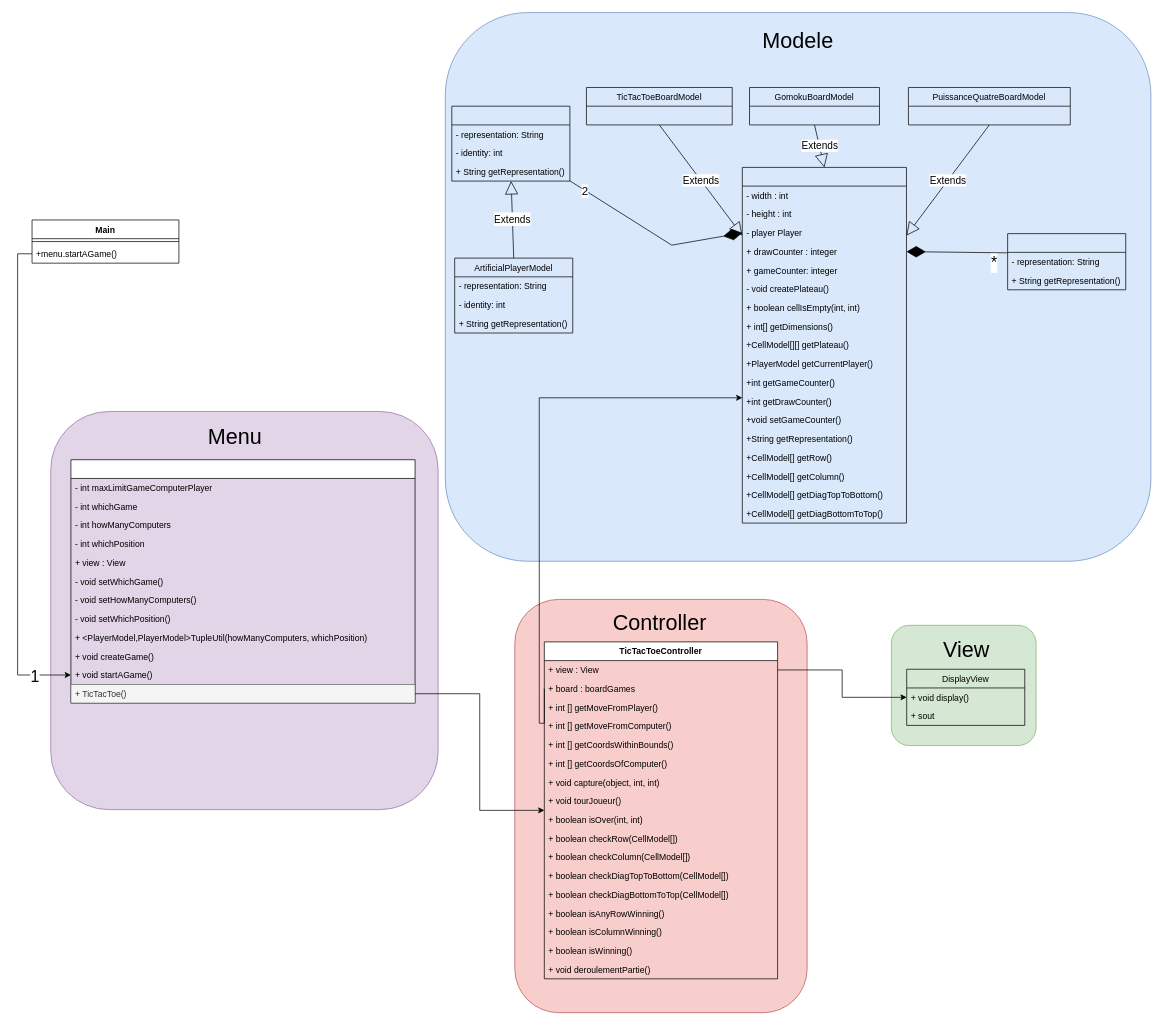
This 1164x1025 diagram has some shape labels left out. The shapes that lost their labels are listed below. From the top down, each one's box as (x1, y1, x2, y2) in pixels, then its label:
(451, 105, 570, 181): PlayerModel
(1007, 233, 1126, 290): CellModel
(742, 167, 906, 523): BoardGamesModel
(70, 459, 415, 703): MenuController
